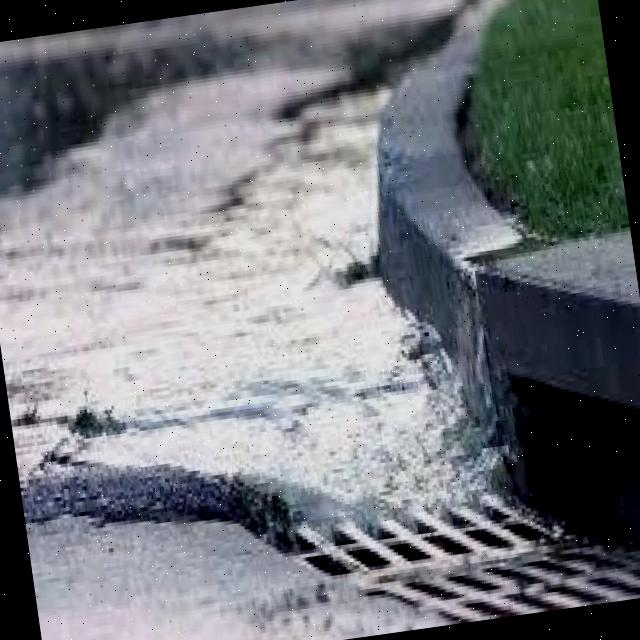curb: (334, 32, 513, 358), (434, 272, 640, 551)
